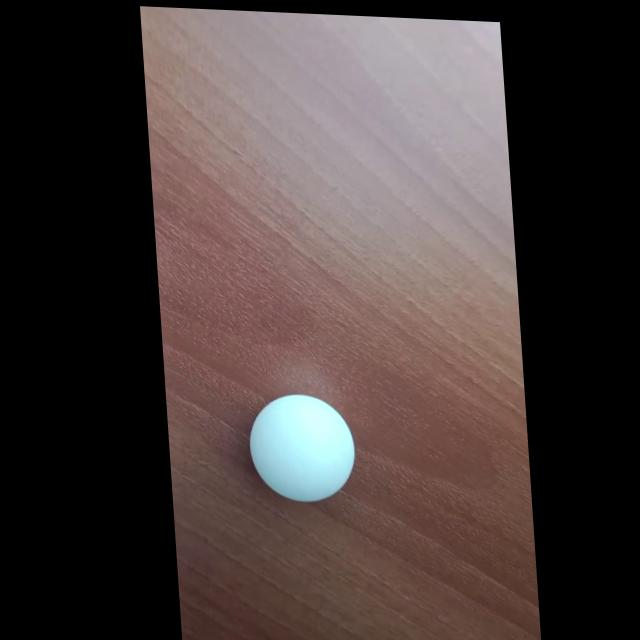white ball: (245, 391, 359, 505)
